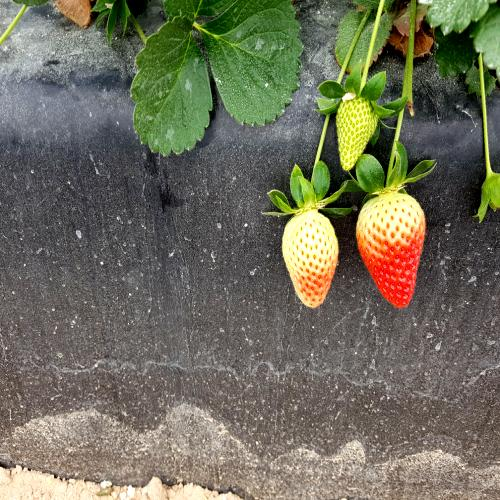partially-ripe: (356, 190, 430, 311), (281, 206, 344, 318)
